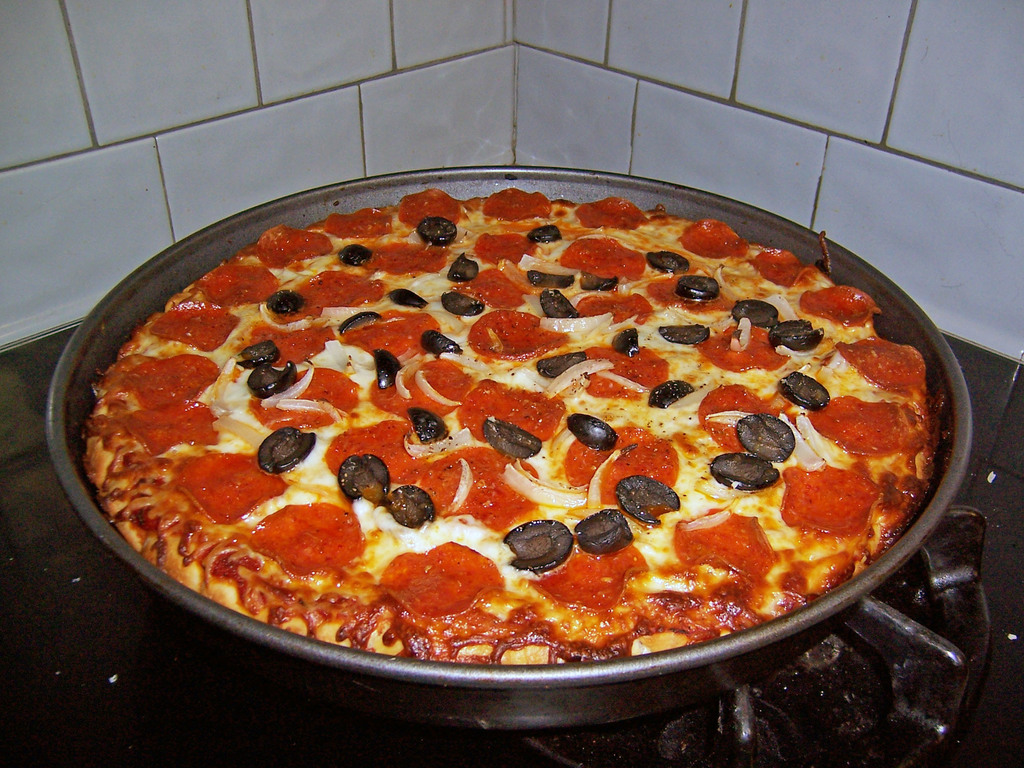Pizza: (49, 154, 975, 689)
